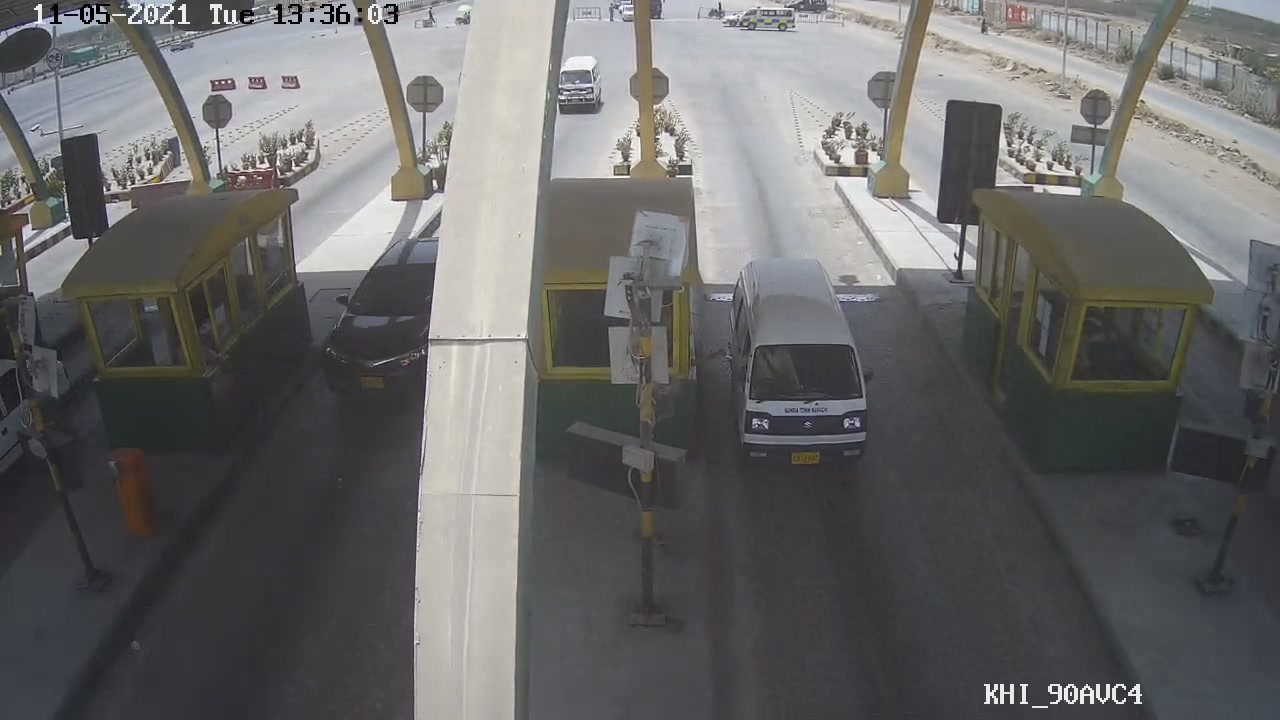F1: (722, 249, 871, 487)
